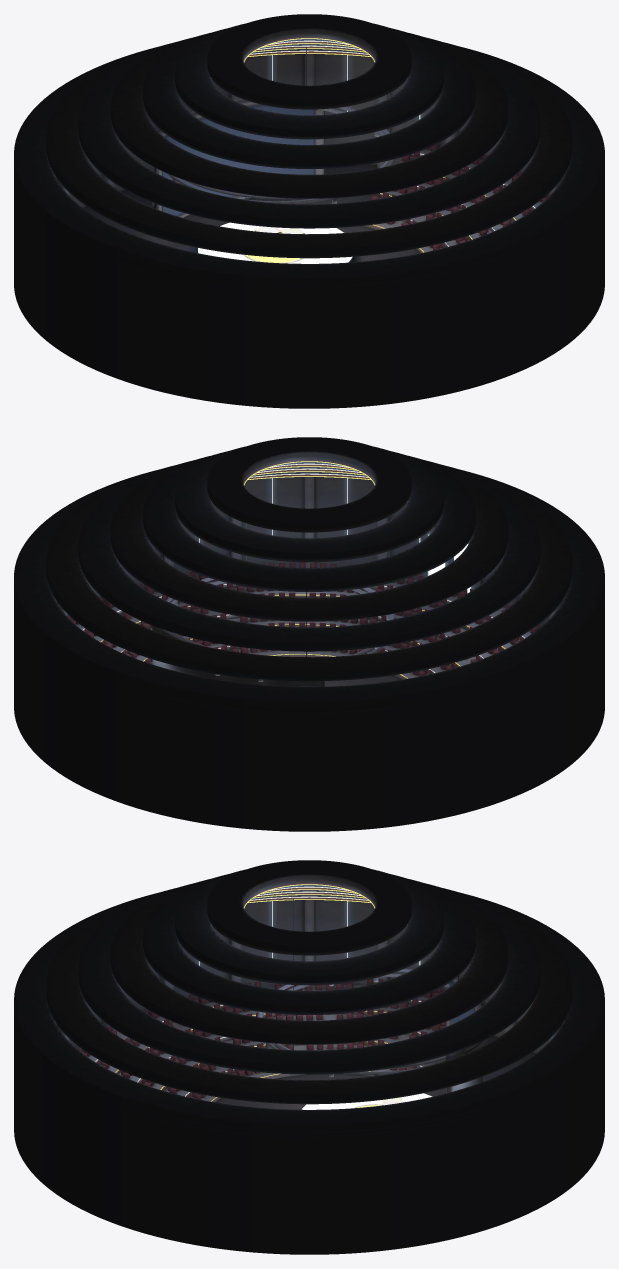
Rendered from ceremony.glb.
The picture shows the model from 3 angles, top to bottom: view 1: azimuth 30°, elevation 25°; view 2: azimuth 150°, elevation 25°; view 3: azimuth 270°, elevation 25°; orthographic projection.
Parts seen in each view (by area): view 1: CEREMONY, EMISSIVE; view 2: CEREMONY, EMISSIVE; view 3: CEREMONY, EMISSIVE.
Part boxes in pixels (x1=…): CEREMONY: x1=14, y1=14, x2=604, y2=408; EMISSIVE: x1=198, y1=38, x2=535, y2=263; CEREMONY: x1=14, y1=437, x2=604, y2=831; EMISSIVE: x1=82, y1=461, x2=524, y2=678; CEREMONY: x1=14, y1=860, x2=604, y2=1254; EMISSIVE: x1=95, y1=884, x2=432, y2=1109.
Bounding box in the file's own units: 53.2 × 22.7 × 53.2.
Materials: 4 (1 with a texture image).
